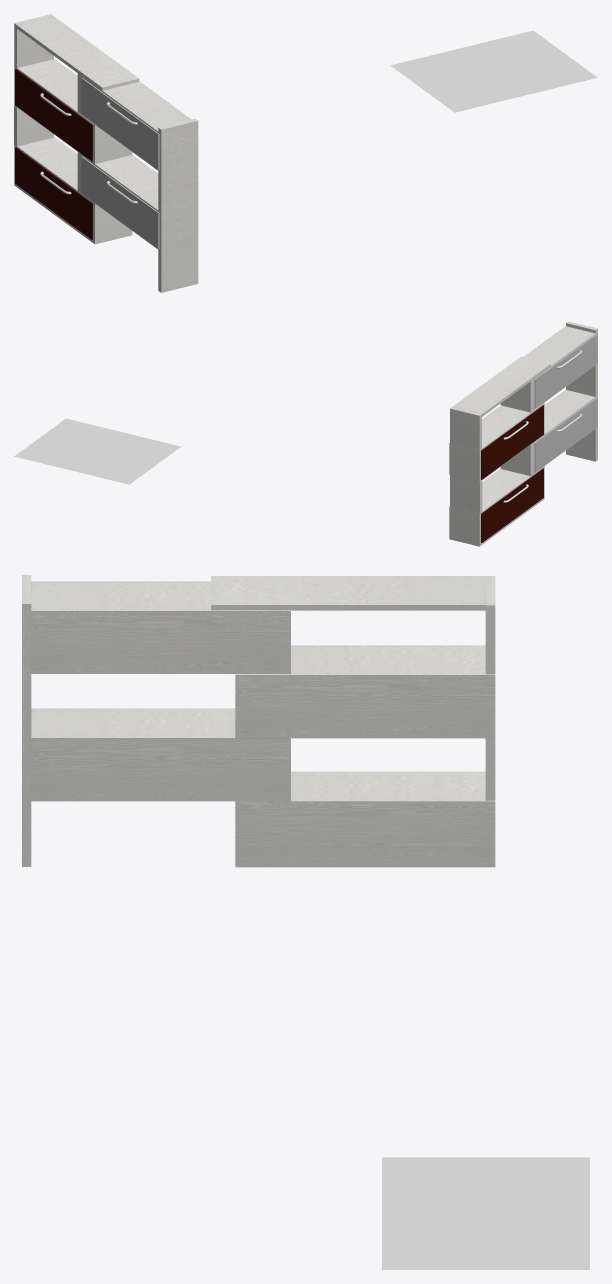
Rendered from Modern-Shelves.FBX.
3 renders of one model, top to bottom at view 1: azimuth 30°, elevation 25°; view 2: azimuth 150°, elevation 25°; view 3: azimuth 270°, elevation 25°, orthographic. The views are drawn at different scales.
Visible parts, largest first — view 1: Plane001, Box013, Box012, Box008, Box010, Box005, Box003, Box006, Box001, Box009, Box007, Box011 (+1 smaller); view 2: Plane001, Box006, Box012, Box001, Box009, Box007, Box008, Box010, Box003, Box005, Box013, Box011 (+1 smaller); view 3: Plane001, Box007, Box006, Box001, Box009, Box012, Box013, Box011, Box002.
Boxes of the visible parts, x1,y1,x2,y2 form: Plane001: [390, 30, 597, 112]; Box013: [158, 118, 198, 292]; Box012: [17, 16, 139, 90]; Box008: [81, 156, 159, 249]; Box010: [81, 77, 159, 170]; Box005: [15, 69, 92, 161]; Box003: [15, 147, 92, 239]; Box006: [14, 58, 132, 163]; Box001: [14, 137, 132, 242]; Box009: [77, 73, 191, 170]; Box007: [77, 152, 158, 249]; Box011: [14, 14, 53, 67]; Plane001: [14, 418, 180, 484]; Box006: [449, 403, 544, 481]; Box012: [452, 356, 550, 416]; Box001: [449, 466, 544, 545]; Box009: [500, 326, 595, 412]; Box007: [500, 389, 595, 476]; Box008: [534, 397, 597, 472]; Box010: [534, 334, 597, 408]; Box003: [481, 468, 543, 542]; Box005: [481, 405, 543, 479]; Box013: [566, 321, 597, 461]; Box011: [450, 407, 481, 450]; Plane001: [382, 1157, 589, 1269]; Box007: [31, 708, 290, 801]; Box006: [235, 645, 495, 738]; Box001: [235, 771, 495, 864]; Box009: [31, 581, 290, 673]; Box012: [211, 576, 485, 610]; Box013: [22, 575, 31, 866]; Box011: [485, 576, 495, 674]; Box002: [235, 864, 495, 867].
Size of the model in its own units: 295 by 83.32 by 163.
